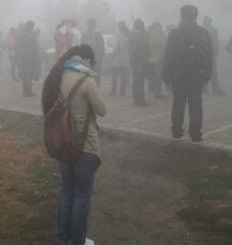person: (41, 44, 106, 245), (161, 4, 210, 143), (125, 20, 155, 108), (13, 21, 45, 98), (104, 17, 130, 96), (203, 15, 227, 98), (147, 22, 167, 98), (81, 16, 104, 71), (7, 25, 24, 83), (53, 19, 75, 56), (68, 19, 82, 47)
